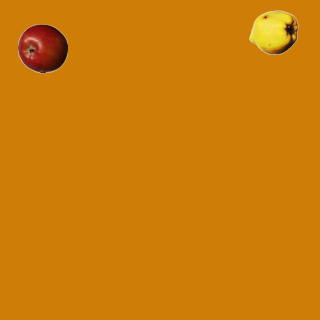Apple Braeburn: (17, 23, 67, 73)
Quince: (248, 7, 298, 57)
